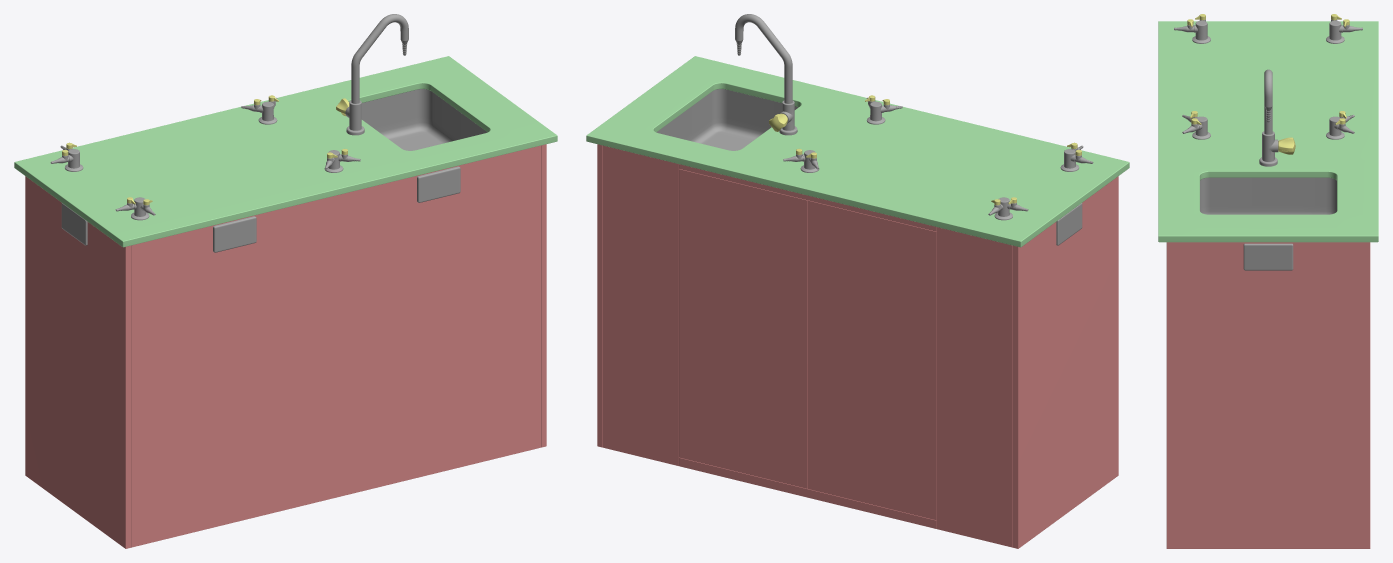
Rendered from HP_GasAndSinkTable_01.fbx.
3 renders of one model, left to right at view 1: azimuth 30°, elevation 25°; view 2: azimuth 150°, elevation 25°; view 3: azimuth 270°, elevation 25°, orthographic.
Parts seen in each view (by area): view 1: pCube31; view 2: pCube31; view 3: pCube31.
Part boxes in pixels (box(x1,y1,x2,y2)): pCube31: box(14, 14, 557, 548); pCube31: box(586, 14, 1129, 548); pCube31: box(1158, 14, 1378, 548).
Size of the model in its own units: 150 by 139 by 65.
